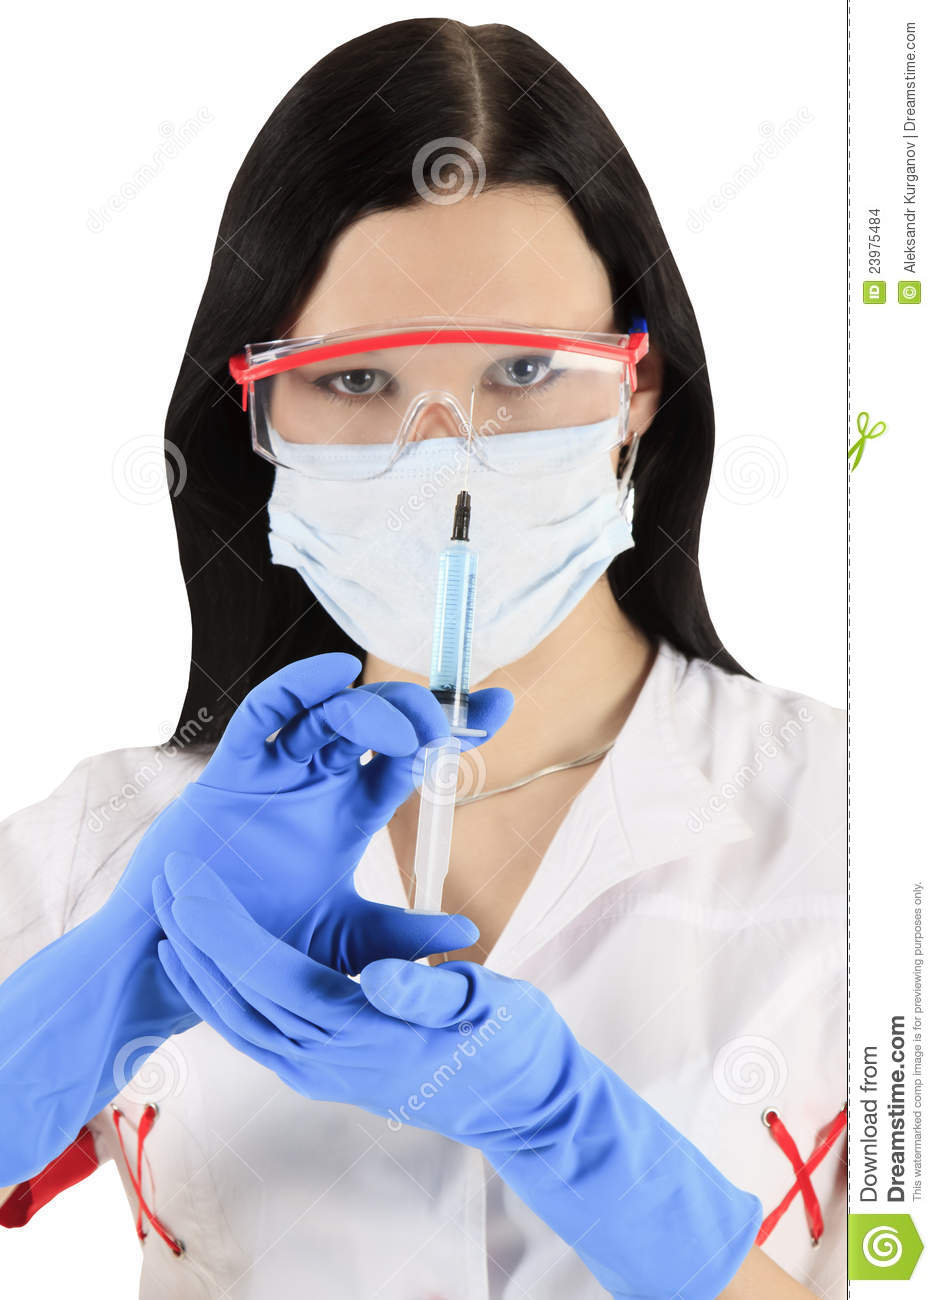mask: (266, 425, 633, 691)
